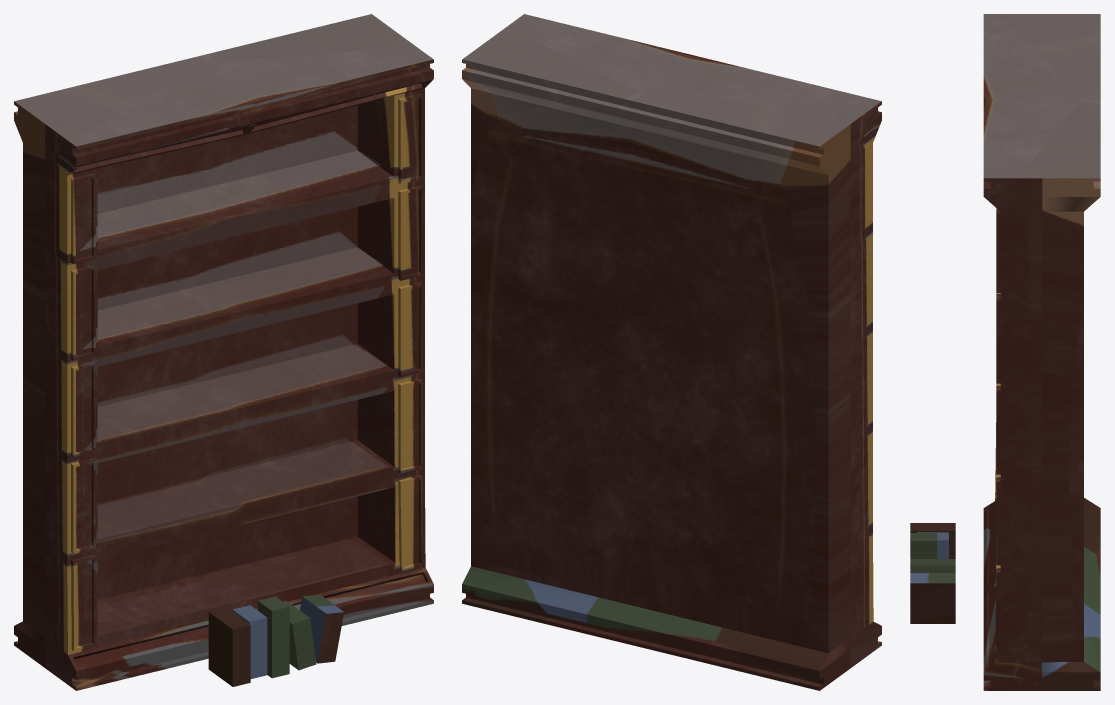
Rendered from NEW_Shelf.fbx.
3 renders of one model, left to right at view 1: azimuth 30°, elevation 25°; view 2: azimuth 150°, elevation 25°; view 3: azimuth 270°, elevation 25°, orthographic. The views are drawn at different scales.
Parts seen in each view (by area): view 1: SK_Shelf, SK_Books; view 2: SK_Shelf; view 3: SK_Shelf, SK_Books.
Part boxes in pixels (box(x1,y1,x2,y2)): SK_Shelf: box(14, 14, 433, 690); SK_Books: box(208, 594, 343, 686); SK_Shelf: box(462, 14, 881, 690); SK_Shelf: box(983, 14, 1100, 690); SK_Books: box(910, 523, 955, 623).
Size of the model in its own units: 272 by 396 by 133.
